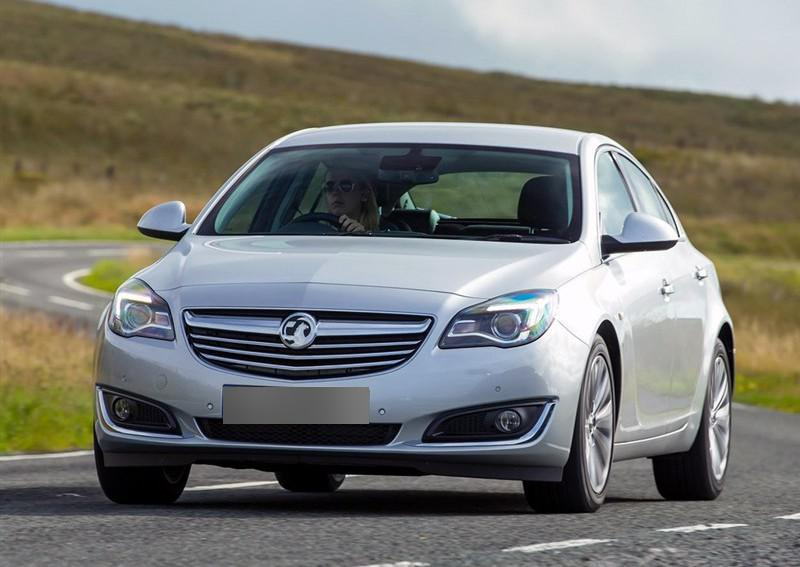Wagon: (92, 123, 737, 512)
